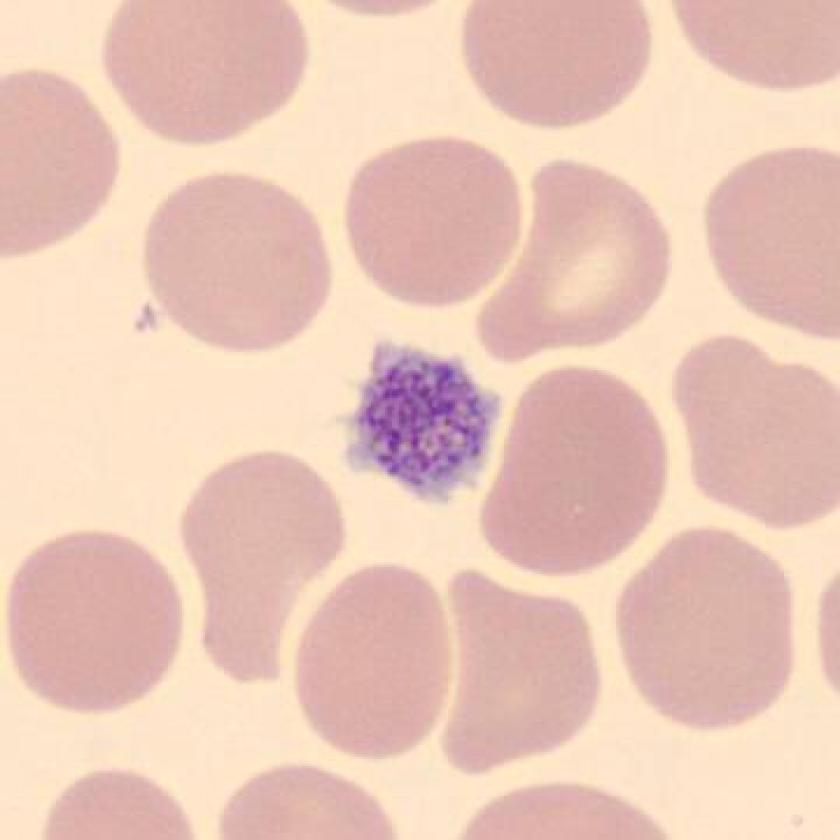platelets: (332, 323, 519, 517)
